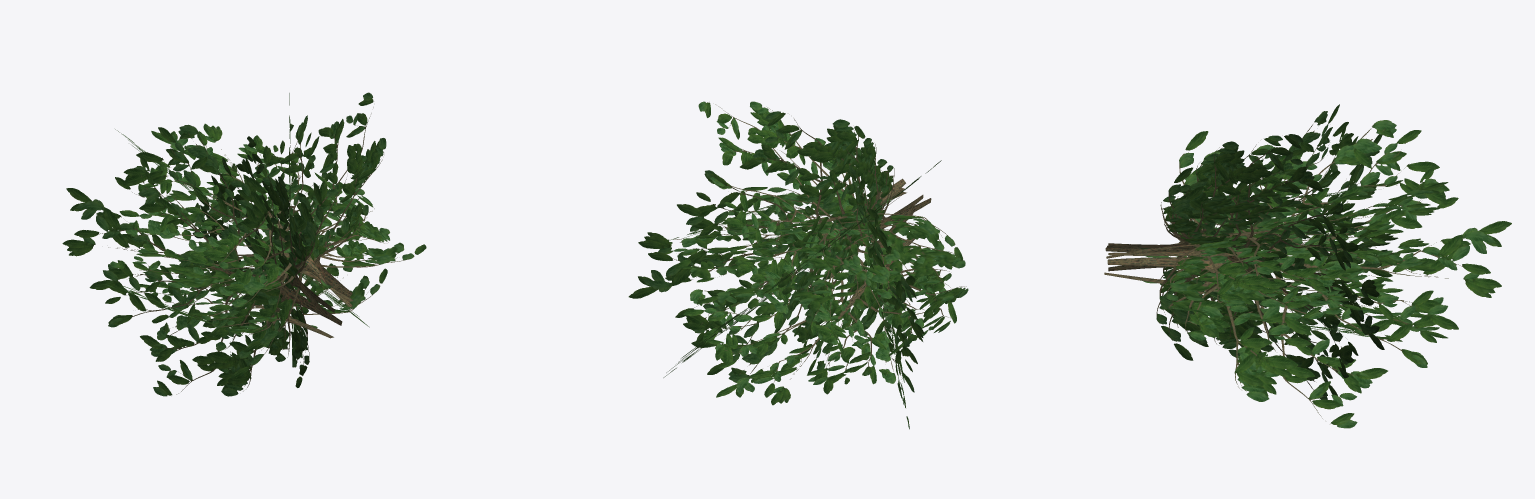
Rendered from Bush_06.FBX.
3 renders of one model, left to right at view 1: azimuth 30°, elevation 25°; view 2: azimuth 150°, elevation 25°; view 3: azimuth 270°, elevation 25°, orthographic. The views are drawn at different scales.
Visible parts, largest first — view 1: Bush_06; view 2: Bush_06; view 3: Bush_06.
Boxes of the visible parts, bbox=[...] form: Bush_06: bbox=[62, 92, 426, 396]; Bush_06: bbox=[628, 101, 968, 429]; Bush_06: bbox=[1104, 104, 1511, 428].
Bounding box in the file's own units: 47.48 × 46.06 × 43.08.
